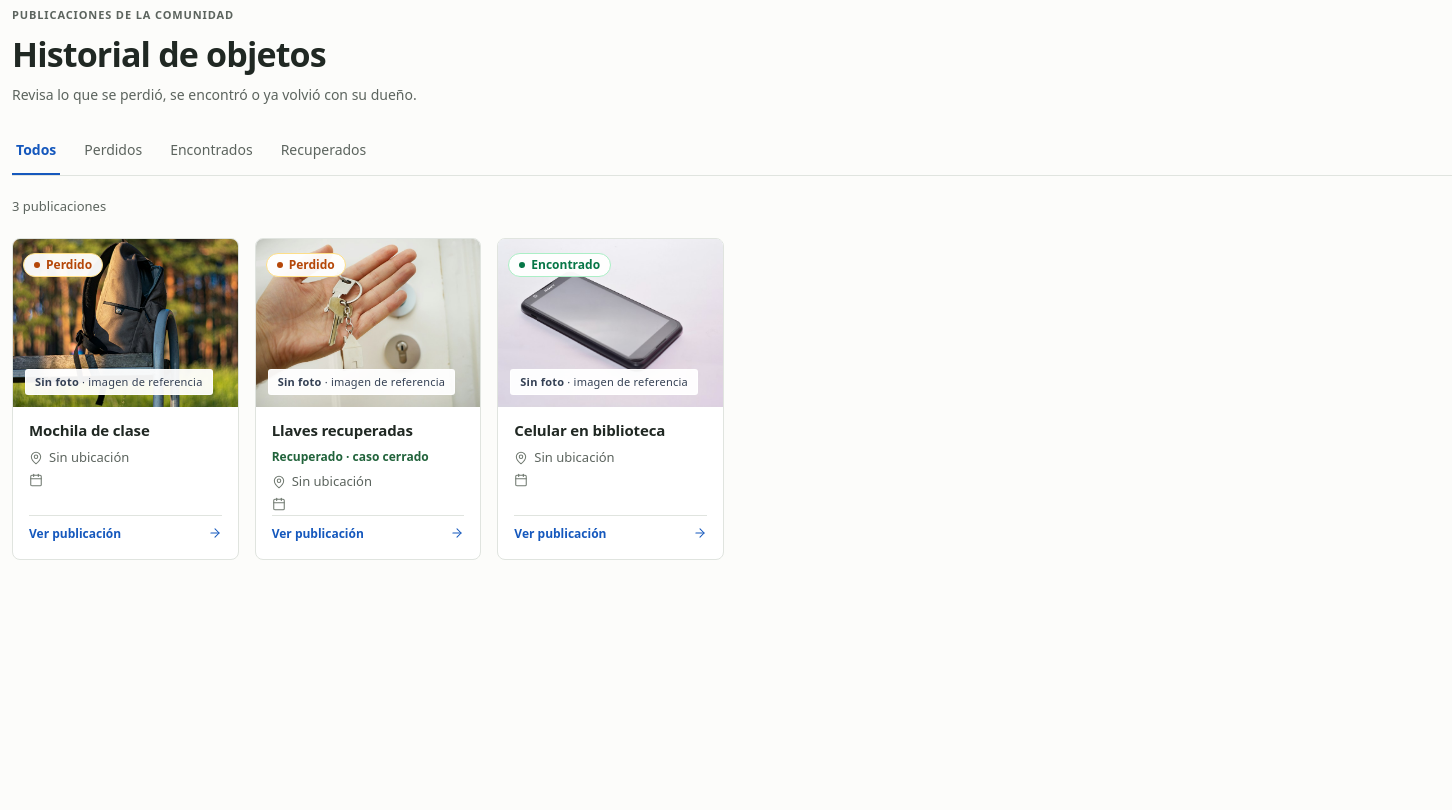
Test: incluye recuperados y filtra el historial sin solicitar solo objetos activos
The image size is (1452, 810).
Expected: the heading "Llaves recuperadas" is shown, top-left (272, 420), bottom-right (413, 440)
Click the button "Recuperados" at (324, 151), box top-left (277, 126), bottom-right (370, 175)
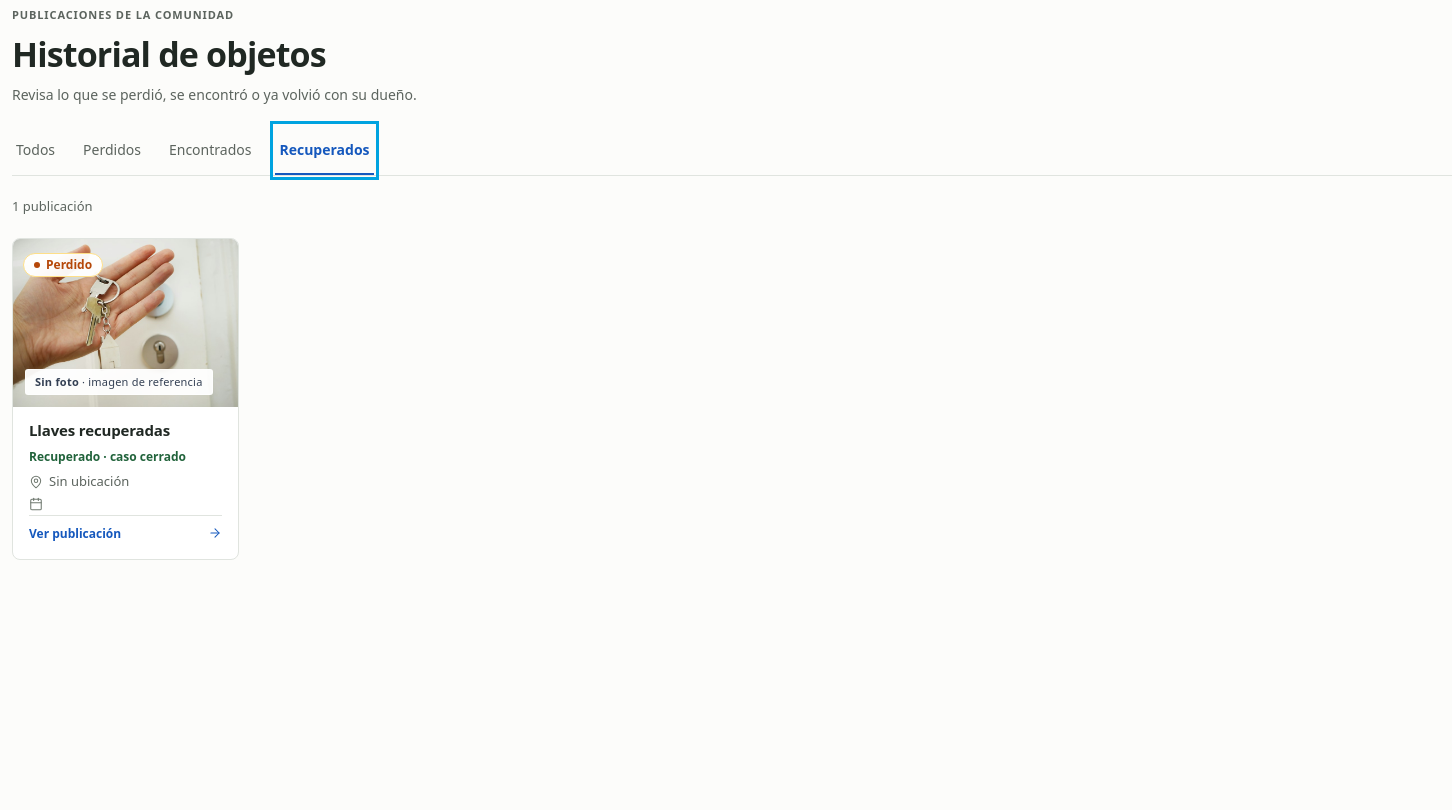
Expected: the heading "Llaves recuperadas" is shown, top-left (29, 420), bottom-right (170, 440)
Expected: the link "Mochila de clase" is gone
Click the button "Encontrados" at (210, 151), box top-left (165, 126), bottom-right (256, 175)
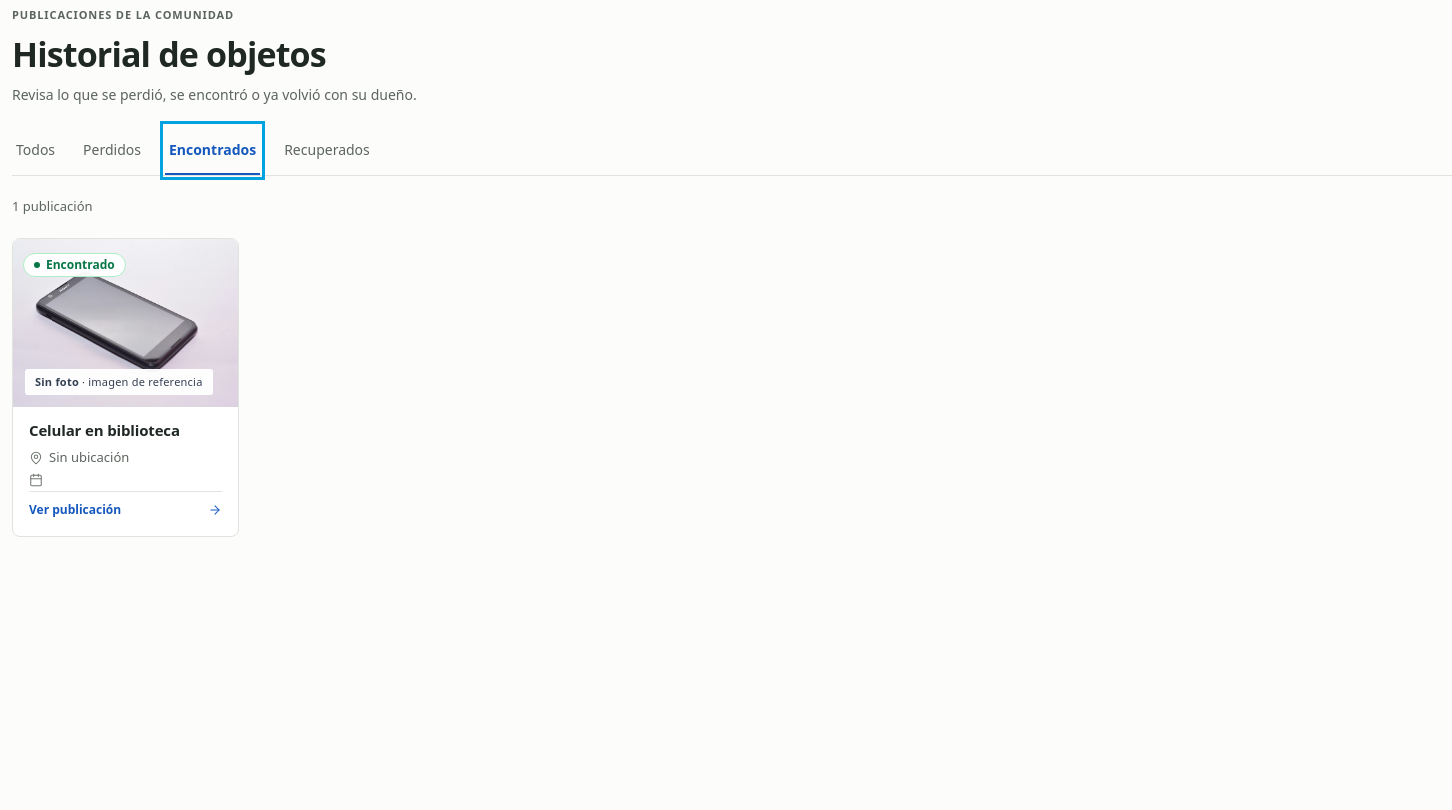
Expected: the heading "Celular en biblioteca" is shown, top-left (29, 420), bottom-right (180, 440)
Expected: the link "Llaves recuperadas" is gone
